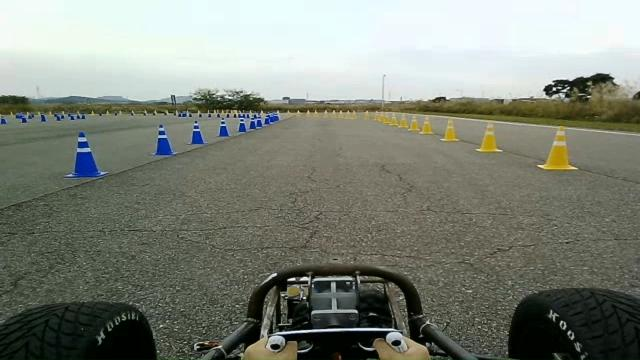blue cone: (63, 131, 109, 179), (148, 124, 177, 155), (187, 120, 208, 144), (217, 118, 231, 137), (237, 117, 247, 132), (270, 110, 280, 122), (248, 120, 256, 130), (264, 114, 272, 124), (255, 118, 262, 128)
yellow cone: (536, 125, 578, 170), (475, 120, 503, 152), (440, 118, 460, 141), (418, 116, 434, 134), (408, 116, 420, 130), (397, 116, 408, 128), (388, 114, 399, 126), (381, 112, 390, 123), (362, 109, 370, 120), (373, 110, 380, 121), (350, 109, 357, 120)
